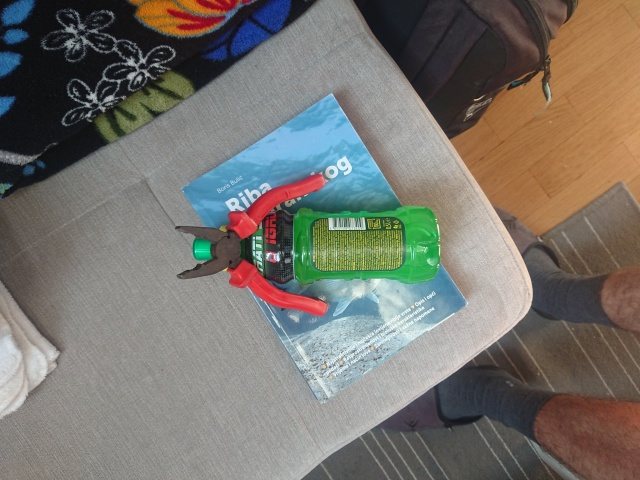Vindi Iso Sport Lemon-Grapefruit 500mL: (189, 202, 444, 288)
